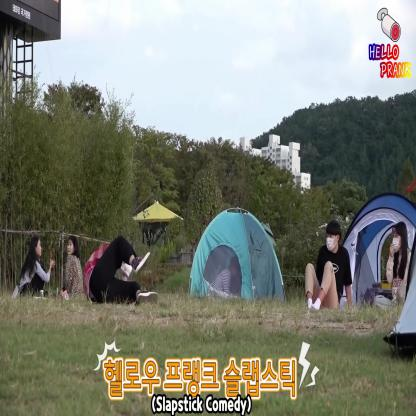Fall_Down: (83, 232, 159, 307)
